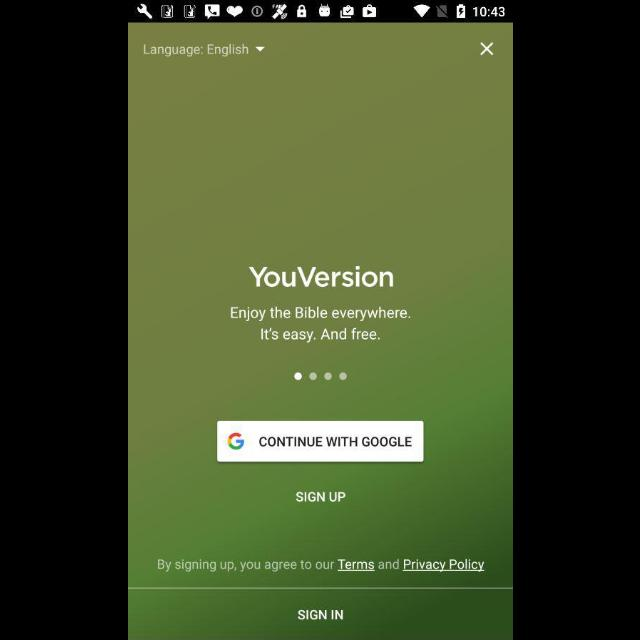icon: (479, 43, 493, 57)
pageindicator: (293, 371, 347, 381)
spinner: (207, 44, 266, 58)
text: (230, 306, 410, 344), (158, 558, 484, 572), (248, 266, 394, 288), (143, 44, 203, 58), (296, 491, 344, 503)
textbutton: (128, 588, 512, 640), (216, 422, 424, 462)
uppertaskbar: (128, 1, 512, 23)
